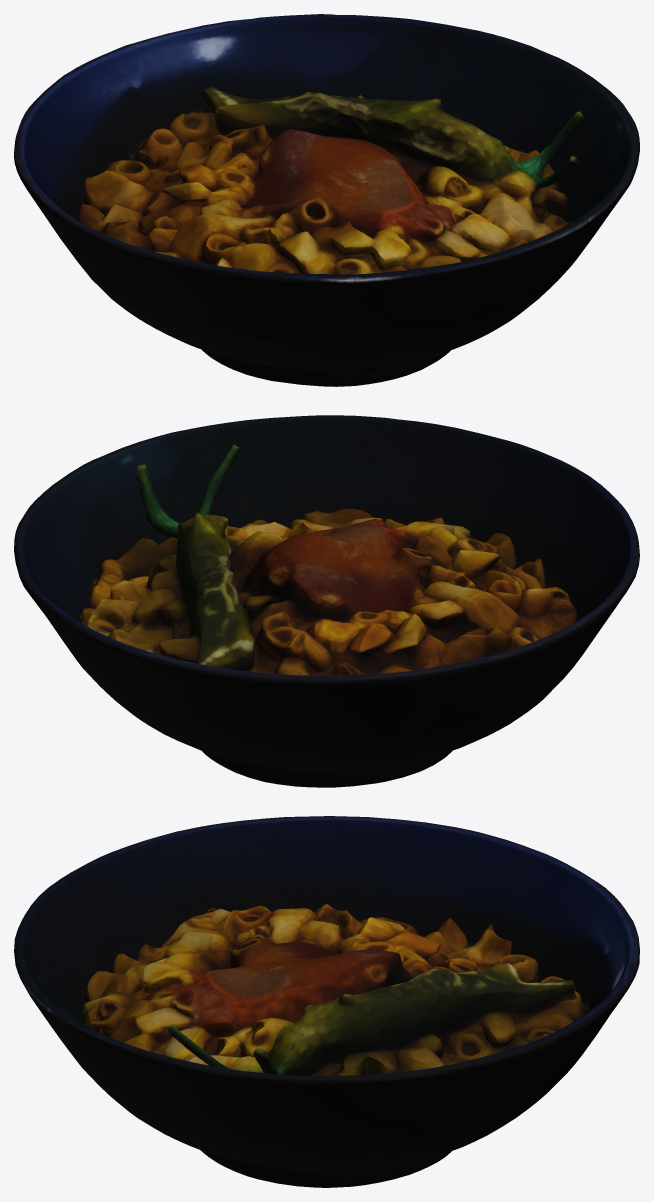
The model's file is sample-dish.glb.
The picture shows the model from 3 angles, top to bottom: view 1: azimuth 30°, elevation 25°; view 2: azimuth 150°, elevation 25°; view 3: azimuth 270°, elevation 25°; orthographic projection.
Parts seen in each view (by area): view 1: world; view 2: world; view 3: world.
Boxes of the visible parts, bbox=[...] form: world: bbox=[14, 14, 639, 386]; world: bbox=[14, 415, 639, 787]; world: bbox=[14, 816, 639, 1187].
Size of the model in its own units: 1 by 0.35 by 1.
1 material, 1 textured.
